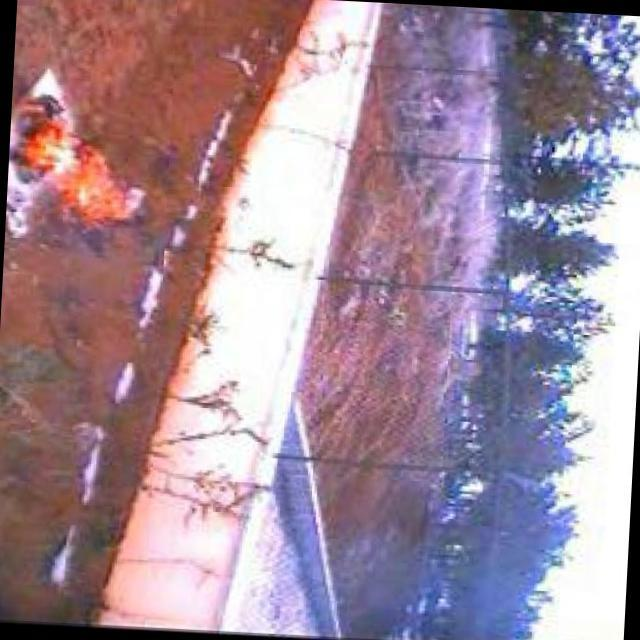Fire: (6, 91, 154, 231)
